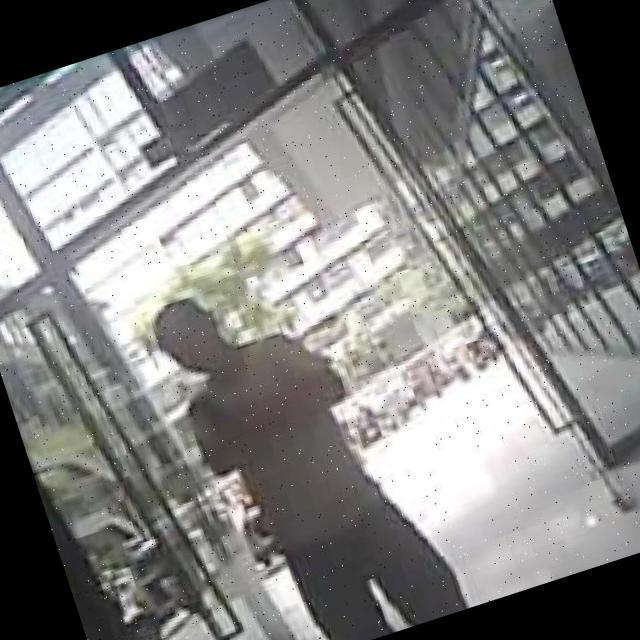person: (145, 239, 478, 640)
